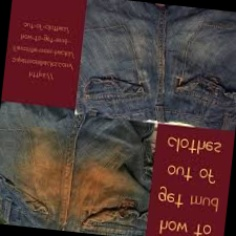earth: (72, 167, 126, 216), (25, 160, 70, 212)
